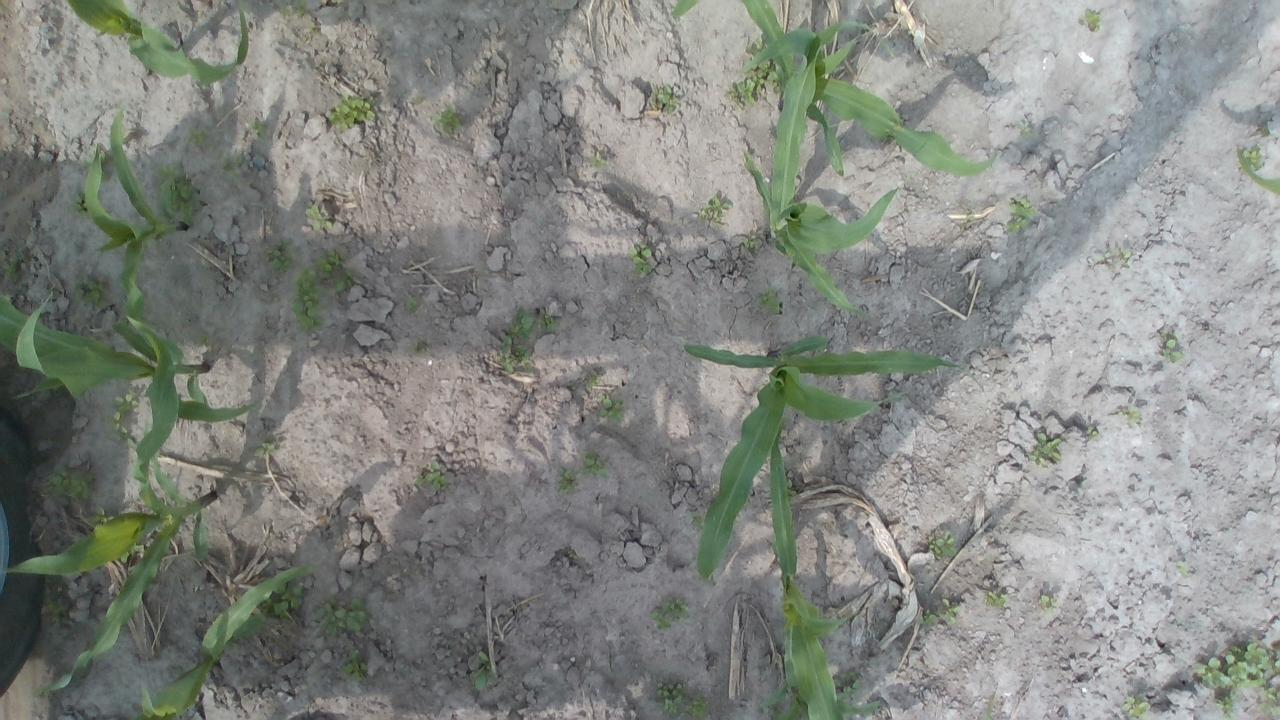Maize: (0, 310, 220, 704), (680, 327, 981, 590), (743, 0, 1001, 187), (743, 14, 896, 310), (0, 285, 262, 423), (132, 558, 312, 720), (82, 102, 186, 330), (768, 435, 850, 720), (51, 0, 249, 85), (756, 661, 886, 720), (665, 0, 710, 23)
Weeds: (1192, 640, 1272, 692), (153, 160, 204, 224), (290, 266, 330, 334), (496, 308, 536, 374), (316, 596, 372, 636), (44, 464, 90, 507), (104, 391, 138, 447), (328, 93, 378, 131), (261, 578, 303, 620), (650, 594, 690, 632), (71, 275, 112, 307), (1029, 431, 1064, 468), (1004, 197, 1038, 234), (748, 57, 782, 94), (656, 678, 684, 720), (79, 144, 109, 182), (338, 649, 372, 682), (263, 235, 294, 271), (414, 460, 448, 492), (578, 446, 608, 481), (650, 81, 681, 114), (700, 195, 732, 226), (831, 669, 862, 700), (724, 80, 756, 110), (473, 650, 497, 688), (1092, 250, 1132, 272), (314, 248, 342, 279), (306, 203, 334, 233), (928, 530, 958, 558), (630, 242, 654, 276), (434, 103, 461, 133), (757, 282, 783, 313), (1160, 330, 1184, 362), (85, 506, 118, 529), (599, 394, 625, 423), (44, 596, 68, 627), (1122, 694, 1150, 720), (1259, 686, 1280, 720), (684, 693, 710, 720), (554, 465, 579, 493), (1118, 401, 1142, 430), (0, 253, 22, 284), (536, 307, 561, 334), (1240, 144, 1264, 172), (220, 151, 244, 178), (66, 192, 90, 218), (185, 124, 212, 147), (335, 268, 357, 295), (941, 597, 962, 625), (1216, 692, 1236, 720), (1080, 7, 1102, 32), (120, 541, 146, 562), (1039, 594, 1062, 616), (246, 118, 268, 140), (744, 34, 764, 54), (986, 591, 1009, 608), (919, 608, 940, 625), (255, 440, 274, 458), (589, 151, 608, 168), (784, 476, 798, 498), (1019, 120, 1036, 138), (690, 510, 705, 530), (586, 372, 604, 388), (404, 294, 419, 313), (294, 0, 309, 19), (276, 3, 292, 20), (194, 330, 212, 345), (742, 234, 758, 249), (1272, 643, 1280, 671), (1176, 560, 1188, 578), (1087, 428, 1103, 441), (964, 208, 974, 221)
